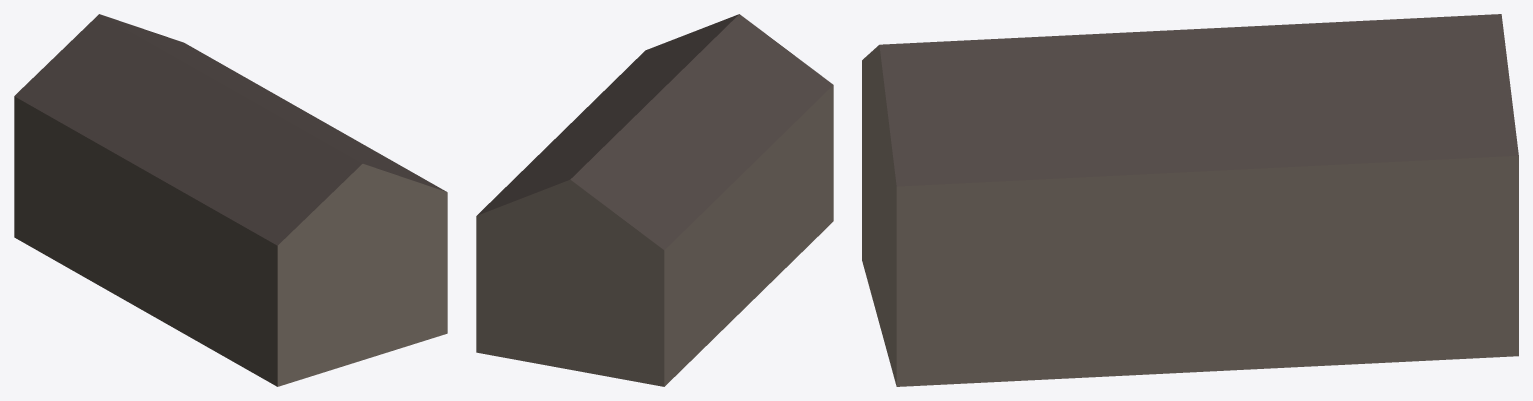
3 views of the same model, side by side, from view 1: azimuth 30°, elevation 25°; view 2: azimuth 150°, elevation 25°; view 3: azimuth 270°, elevation 25° (orthographic). The views are drawn at different scales.
Visible parts, largest first — view 1: HP-w776801006; view 2: HP-w776801006; view 3: HP-w776801006.
Boxes of the visible parts, left/top/right/bottom form: HP-w776801006: left=14, top=14, right=447, bottom=386; HP-w776801006: left=476, top=14, right=833, bottom=386; HP-w776801006: left=862, top=14, right=1518, bottom=386.
Size of the model in its own units: 15.12 by 12.54 by 26.73.
